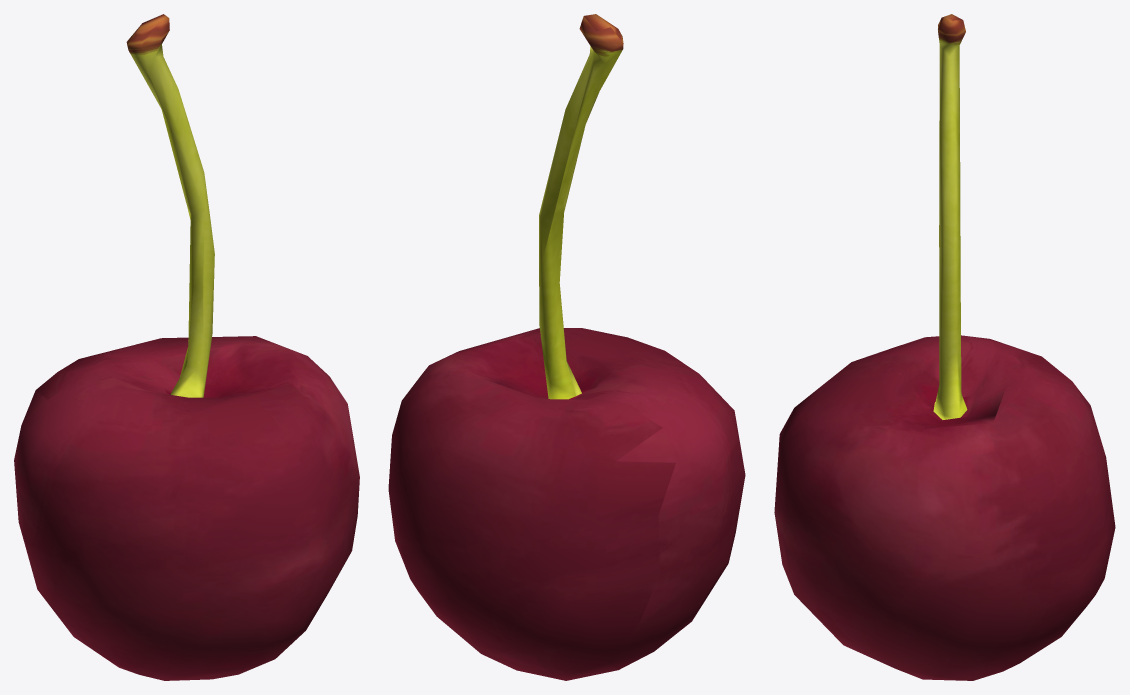
The model's file is Chery.fbx.
3 renders of one model, left to right at view 1: azimuth 30°, elevation 25°; view 2: azimuth 150°, elevation 25°; view 3: azimuth 270°, elevation 25°, orthographic. The views are drawn at different scales.
Parts seen in each view (by area): view 1: 10174_Cherry_v01_l3; view 2: 10174_Cherry_v01_l3; view 3: 10174_Cherry_v01_l3.
Boxes of the visible parts, x1=… form: 10174_Cherry_v01_l3: x1=14, y1=14, x2=359, y2=680; 10174_Cherry_v01_l3: x1=388, y1=14, x2=745, y2=680; 10174_Cherry_v01_l3: x1=774, y1=14, x2=1115, y2=680.
Bounding box in the file's own units: 540 × 1069 × 518.
